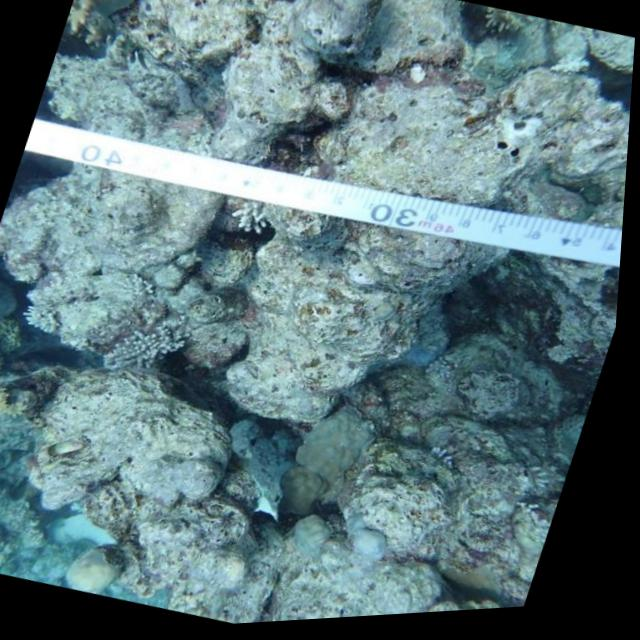Bleached Coral: (95, 302, 202, 395), (213, 187, 293, 256), (17, 284, 85, 352), (110, 262, 178, 312)
